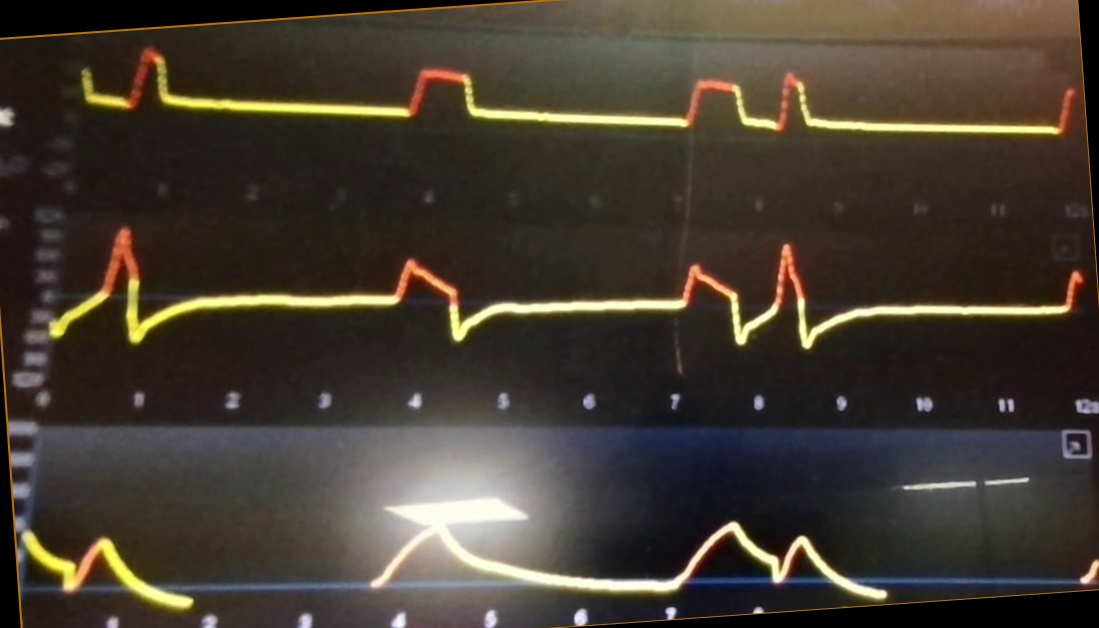Double_Triggering Flow: (52, 208, 1087, 367)
Double_Triggering Volume: (23, 469, 894, 609)
